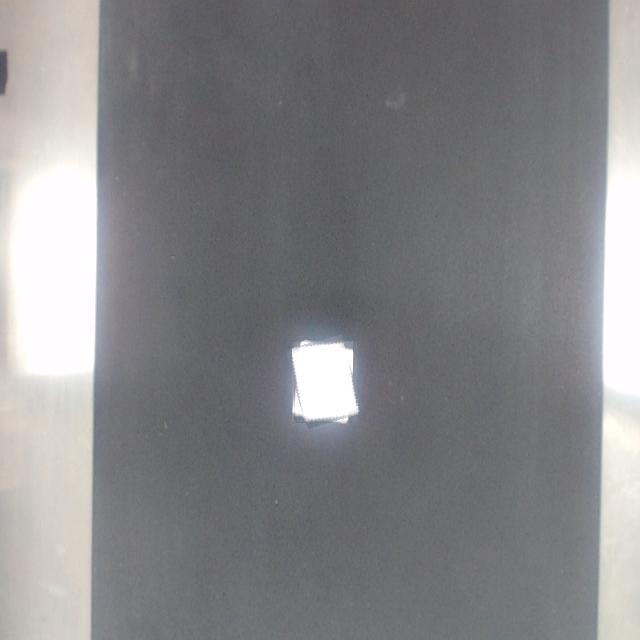Blanco: (293, 343, 357, 422)
